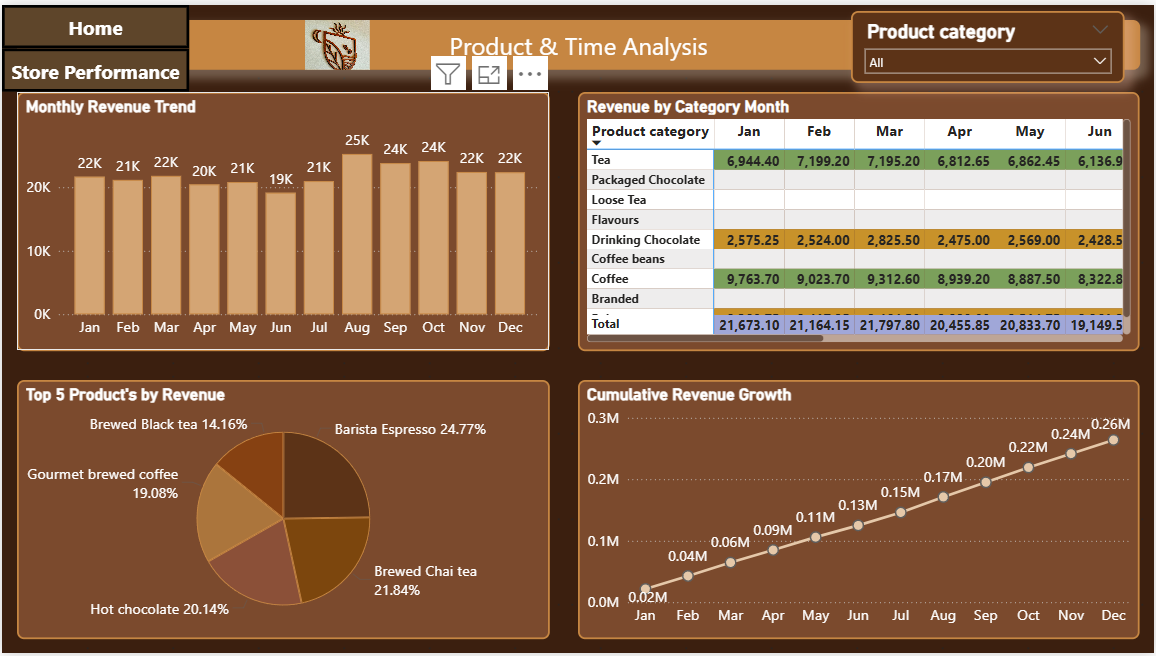

The dashboard page shown, as its layout file describes it:
{"tool":"powerbi","page":{"name":"Products and Time Analysis","canvas":[1280,720],"ordinal":2},"visuals":[{"type":"textbox","box":[224,0,720,80],"z":0},{"type":"clusteredColumnChart","fields":{"Category":["Date_Table.Month Name"],"Y":["other_Measures.Dynamic KPI"]},"box":[16,96,592,288],"z":1000},{"type":"pivotTable","title":"Revenue by Category  Month","fields":{"Rows":["Coffee_shop_sales.Product category"],"Columns":["Date_Table.Month Name"],"Values":["KPI_Measures.Total Revenue"]},"box":[640,96,624,288],"z":2000},{"type":"pieChart","fields":{"Category":["Coffee_shop_sales.Product Type"],"Y":["other_Measures.Dynamic KPI"]},"box":[16,416,592,288],"z":3000},{"type":"lineChart","title":"Cumulative Revenue Growth","fields":{"Category":["Date_Table.Month Name"],"Y":["other_Measures.Running Total Revenue"]},"box":[640,416,624,288],"z":4000},{"type":"slicer","fields":{"Values":["Coffee_shop_sales.Product category"]},"box":[960,0,304,80],"z":5000},{"type":"actionButton","box":[0,0,208,48],"z":9000},{"type":"actionButton","box":[0,48,208,48],"z":10000}]}

Visuals, with their boxes in screenshot pixels (x1, y1, x2, y2), scaled from the page's 1280x720 canvas onto the 1156x656 screenshot:
textbox: [x1=202, y1=0, x2=853, y2=73]
clusteredColumnChart - Date_Table.Month Name x other_Measures.Dynamic KPI: [x1=14, y1=87, x2=549, y2=350]
"Revenue by Category  Month" pivotTable: [x1=578, y1=87, x2=1142, y2=350]
pieChart - Coffee_shop_sales.Product Type x other_Measures.Dynamic KPI: [x1=14, y1=379, x2=549, y2=641]
"Cumulative Revenue Growth" lineChart: [x1=578, y1=379, x2=1142, y2=641]
slicer - Coffee_shop_sales.Product category: [x1=867, y1=0, x2=1142, y2=73]
actionButton: [x1=0, y1=0, x2=188, y2=44]
actionButton: [x1=0, y1=44, x2=188, y2=87]
